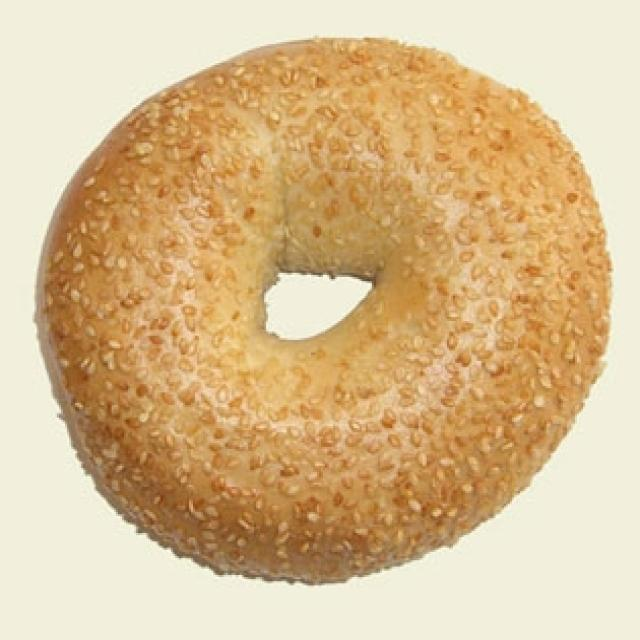面包点心: (20, 21, 620, 611)
